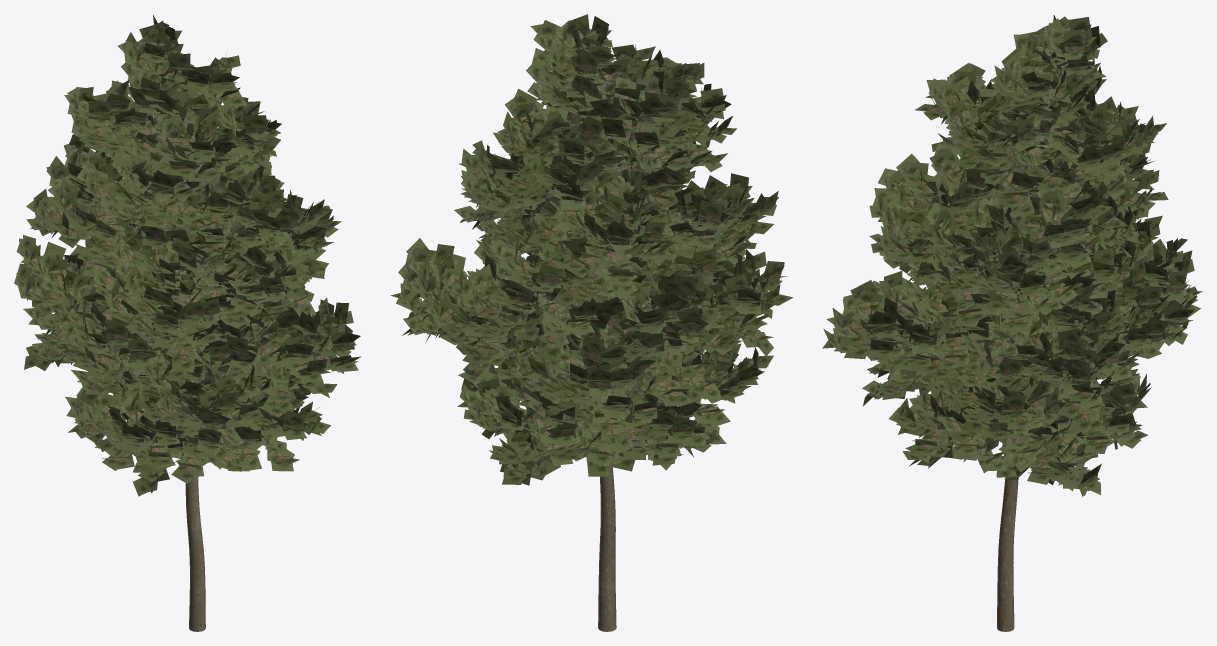
Rendered from pino.glb.
3 views of the same model, side by side, from view 1: azimuth 30°, elevation 25°; view 2: azimuth 150°, elevation 25°; view 3: azimuth 270°, elevation 25° (orthographic). The views are drawn at different scales.
Parts seen in each view (by area): view 1: leaves.002, tree; view 2: leaves.002, tree; view 3: leaves.002, tree.
Boxes of the visible parts, box(x1,y1,x2,y2) form: leaves.002: box(14, 15, 360, 496); tree: box(29, 58, 343, 631); leaves.002: box(390, 14, 793, 485); tree: box(405, 62, 734, 631); leaves.002: box(822, 15, 1202, 496); tree: box(847, 62, 1177, 631).
Bounding box in the file's own units: 9.85 × 18.18 × 10.3.
2 materials, 2 textured.
